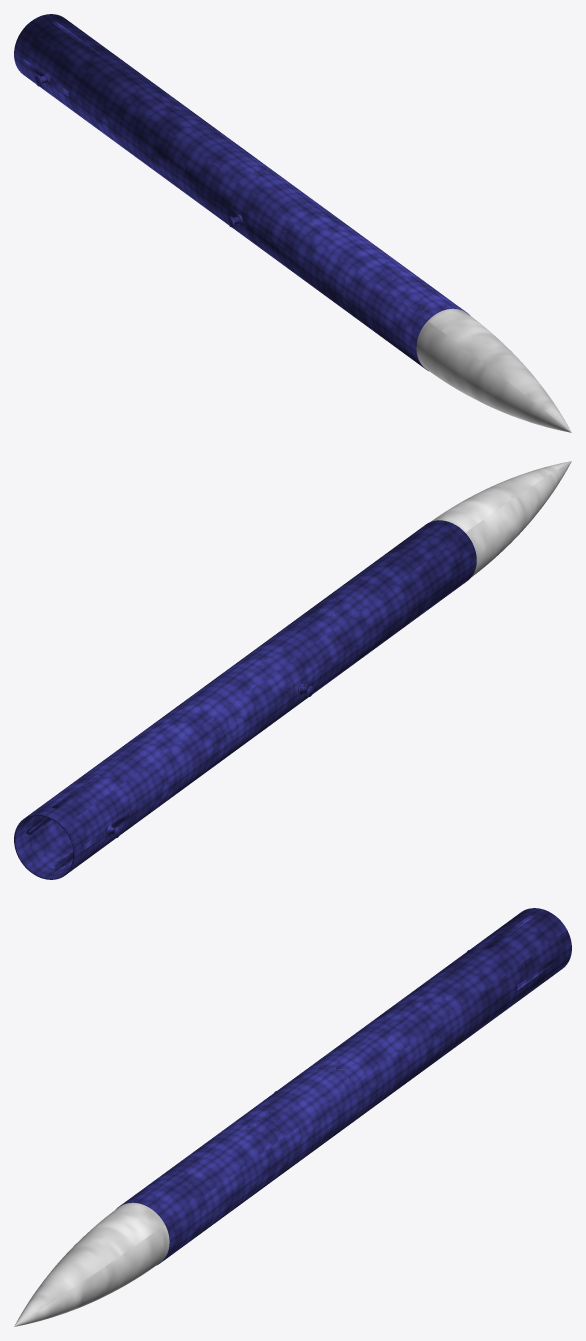
File: Rocket_Body.glb
The picture shows the model from 3 angles, top to bottom: view 1: azimuth 30°, elevation 25°; view 2: azimuth 150°, elevation 25°; view 3: azimuth 330°, elevation 25°; orthographic projection.
Visible parts, largest first — view 1: Rocket3Dmodel; view 2: Rocket3Dmodel; view 3: Rocket3Dmodel.
Part boxes in pixels (x1,y1,x2,y2): Rocket3Dmodel: [14, 14, 571, 432]; Rocket3Dmodel: [14, 461, 571, 879]; Rocket3Dmodel: [14, 908, 571, 1326].
Size of the model in its own units: 1.85 by 1.6 by 24.
Materials: 2 (2 with a texture image).
